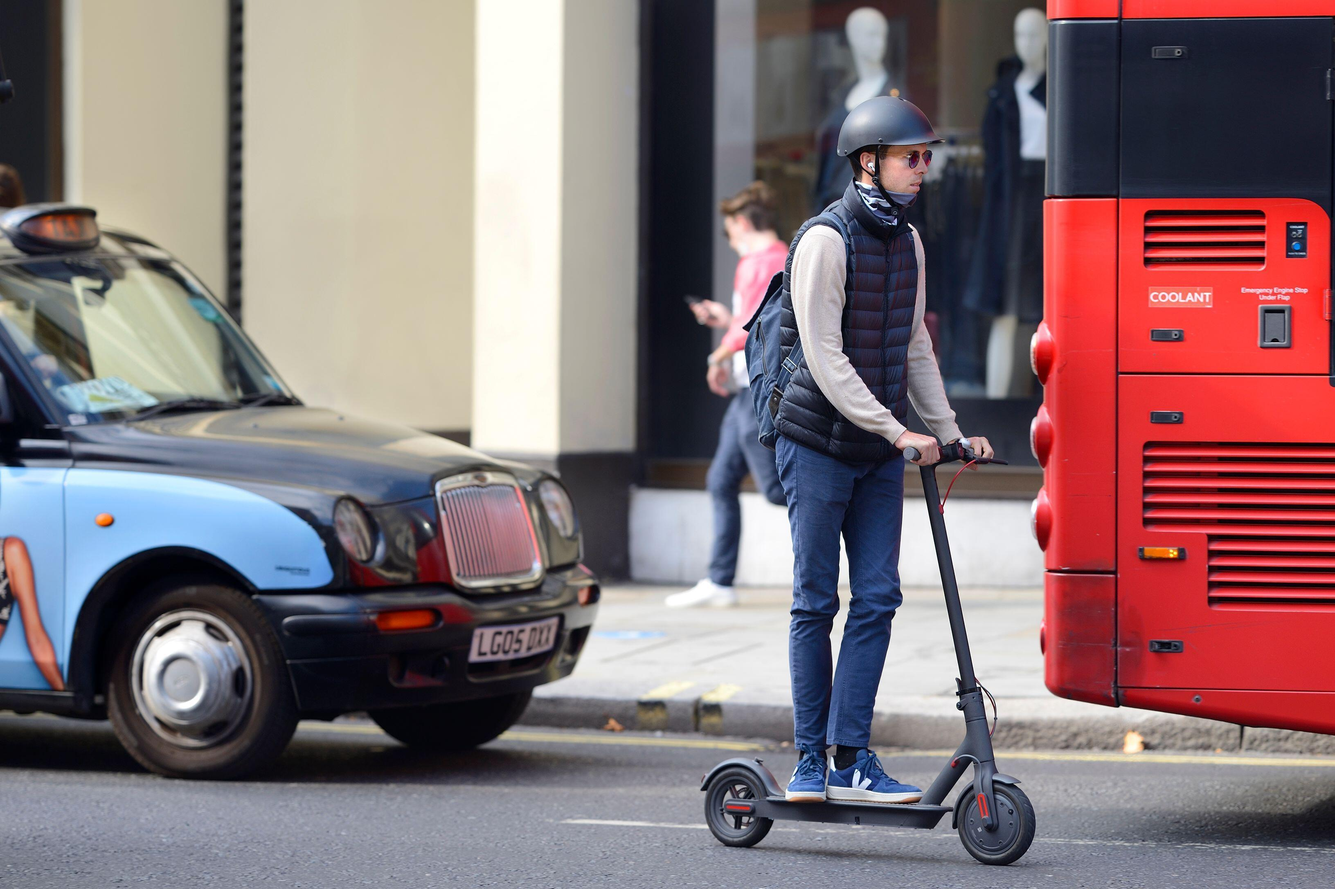helmet: (834, 100, 952, 227)
human: (777, 105, 965, 799)
kickboard: (700, 763, 1047, 869)
